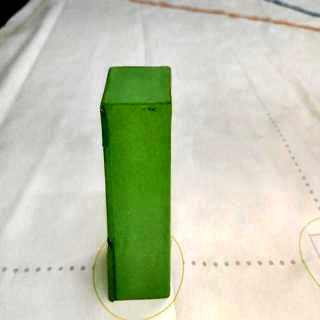greenbox: (98, 64, 176, 302)
